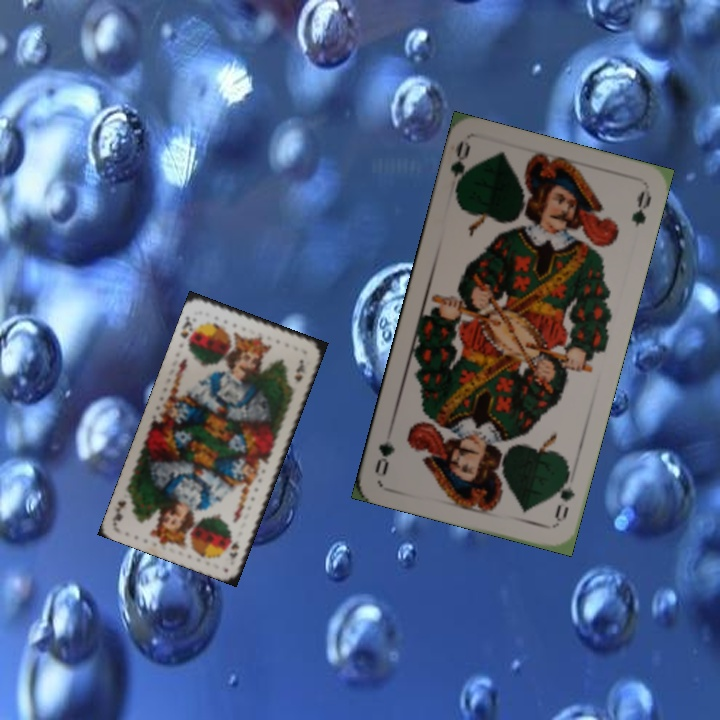GO: (446, 138, 475, 199), (550, 467, 578, 525)
SK: (176, 312, 198, 350), (225, 536, 242, 562)
